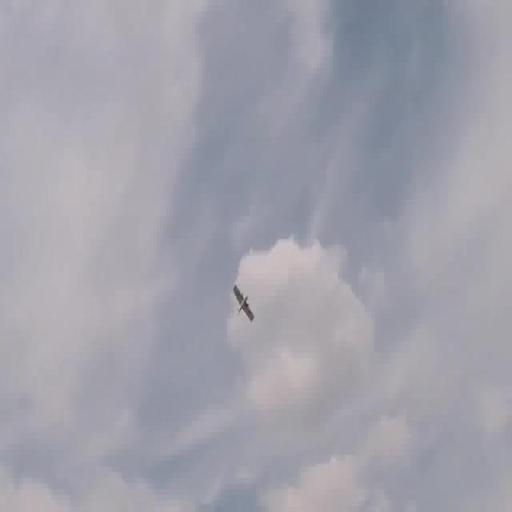uav: (232, 282, 258, 329)
